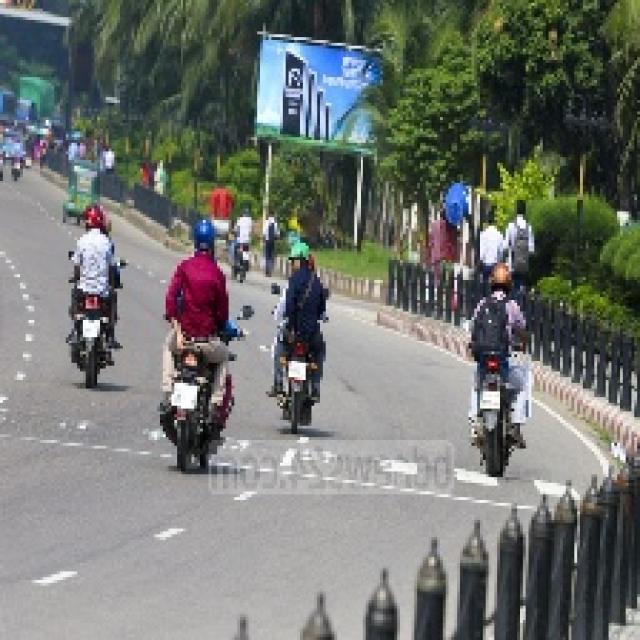bike: (159, 328, 240, 475), (467, 337, 533, 484), (61, 265, 128, 398), (268, 308, 333, 436), (228, 231, 257, 291)
